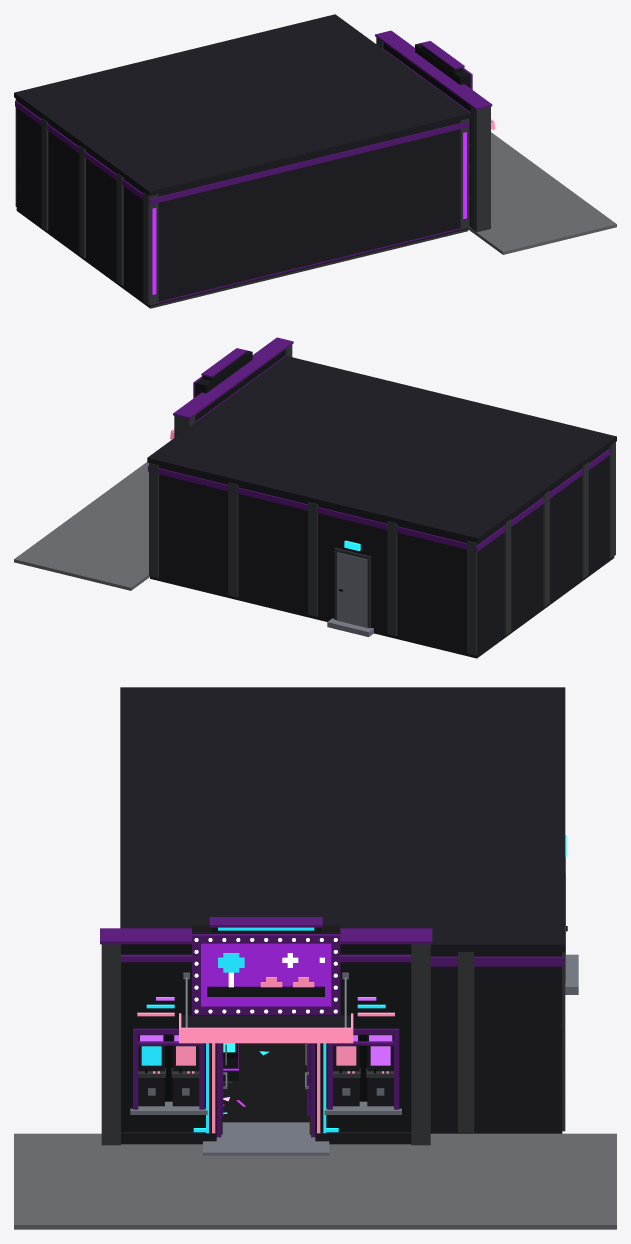
Rendered from arcade.glb.
3 renders of one model, top to bottom at view 1: azimuth 30°, elevation 25°; view 2: azimuth 150°, elevation 25°; view 3: azimuth 270°, elevation 25°, orthographic. The views are drawn at different scales.
Parts seen in each view (by area): view 1: toit, mur_avant, walls_soot_black, trottoir, walls_black_light, wall_black_light, mur_avant_corniche, wall_neon_purple_dark, floor_soot_black, floor_black_light, walls_neon_purple_dark, walls_neon_purple (+4 smaller); view 2: toit, walls_soot_black, walls_black_light, trottoir, walls_neon_purple_dark, walls_mid_grey, wall_neon_purple_dark, floor_soot_black, marquee_black, wall_black, marquee_neon_purple_dark; view 3: toit, trottoir, walls_soot_black, wall_black, wall_black_light, marquee_neon_purple, floor_black, marquee_neon_purple_dark, cabinets_soot_black, wall_neon_purple_dark, walls_black_light, canopy_hot_pink (+16 smaller).
Boxes of the visible parts, x1,y1,x2,y2 form: toit: [14, 14, 470, 196]; mur_avant: [149, 120, 460, 307]; walls_soot_black: [16, 99, 143, 299]; trottoir: [468, 132, 616, 254]; walls_black_light: [15, 99, 469, 305]; wall_black_light: [376, 37, 490, 232]; mur_avant_corniche: [149, 121, 469, 204]; wall_neon_purple_dark: [375, 30, 492, 112]; floor_soot_black: [16, 207, 467, 307]; floor_black_light: [150, 229, 468, 308]; walls_neon_purple_dark: [15, 100, 149, 204]; walls_neon_purple: [152, 132, 466, 294]; toit: [147, 356, 616, 542]; walls_soot_black: [159, 447, 608, 653]; walls_black_light: [149, 442, 615, 655]; trottoir: [14, 462, 149, 590]; walls_neon_purple_dark: [148, 449, 610, 551]; walls_mid_grey: [327, 552, 373, 636]; wall_neon_purple_dark: [173, 337, 293, 422]; floor_soot_black: [150, 558, 609, 658]; marquee_black: [195, 350, 252, 396]; wall_black: [195, 350, 284, 421]; marquee_neon_purple_dark: [193, 348, 246, 398]; toit: [120, 687, 565, 952]; trottoir: [14, 1133, 616, 1229]; walls_soot_black: [430, 952, 562, 1131]; wall_black: [121, 944, 411, 1131]; wall_black_light: [101, 944, 430, 1145]; marquee_neon_purple: [201, 943, 331, 1006]; floor_black: [222, 1043, 309, 1122]; marquee_neon_purple_dark: [192, 917, 340, 1014]; cabinets_soot_black: [138, 1034, 393, 1106]; wall_neon_purple_dark: [100, 928, 432, 962]; walls_black_light: [458, 952, 565, 1132]; canopy_hot_pink: [179, 1013, 353, 1043].
Size of what is drawn, in the model's own units: 15.06 by 4.64 by 11.
